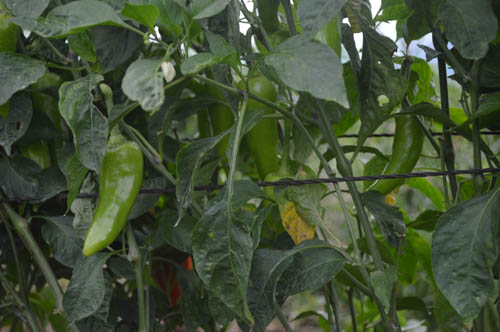ChiliPepper: (82, 146, 144, 261), (364, 110, 427, 201), (237, 80, 284, 176), (196, 77, 235, 149)
